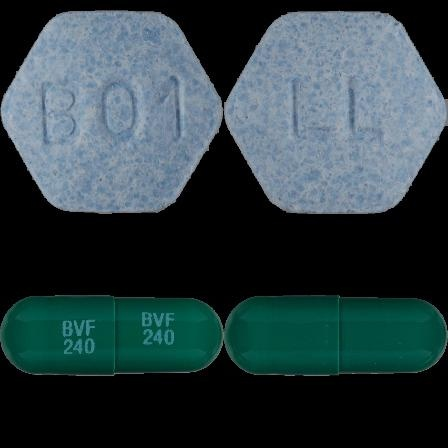33261-828: (0, 0, 224, 224)
